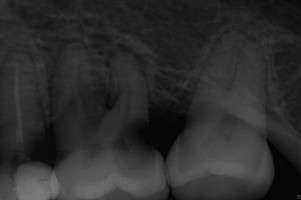Endo-Periodontal Lesion: (104, 90, 120, 110)
